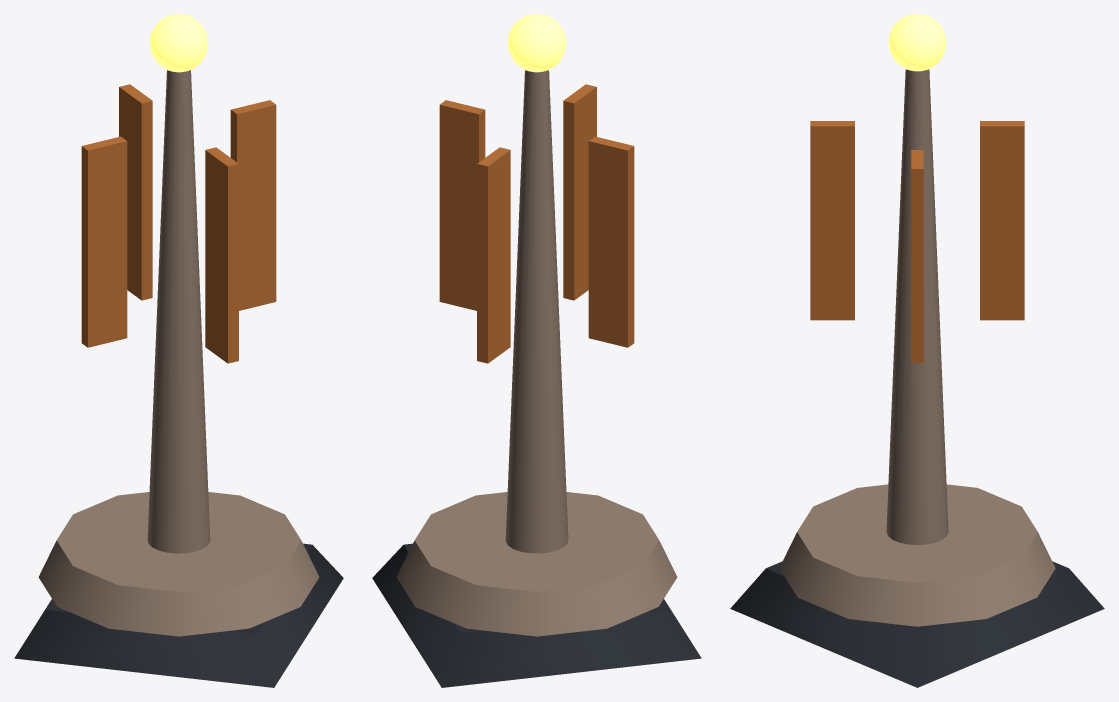
File: compact_high_gravity--command_relay.glb
3 renders of one model, left to right at view 1: azimuth 30°, elevation 25°; view 2: azimuth 150°, elevation 25°; view 3: azimuth 270°, elevation 25°, orthographic.
Visible parts, largest first — view 1: rotation_bearing_2, relay_mast_3, mount_adapter_1, relay_vane_6, relay_vane_4, relay_vane_5, relay_vane_7, signal_tip_8; view 2: rotation_bearing_2, relay_mast_3, mount_adapter_1, relay_vane_6, relay_vane_4, relay_vane_7, relay_vane_5, signal_tip_8; view 3: rotation_bearing_2, relay_mast_3, mount_adapter_1, relay_vane_5, relay_vane_7, relay_vane_4, signal_tip_8.
Boxes of the visible parts, <box> form: rotation_bearing_2: <box>38,492,319,636</box>; relay_mast_3: <box>147,70,210,553</box>; mount_adapter_1: <box>14,543,343,687</box>; relay_vane_6: <box>81,136,127,347</box>; relay_vane_4: <box>230,100,276,310</box>; relay_vane_5: <box>205,147,238,363</box>; relay_vane_7: <box>119,84,152,300</box>; signal_tip_8: <box>149,14,208,72</box>; rotation_bearing_2: <box>396,492,677,636</box>; relay_mast_3: <box>505,70,568,553</box>; mount_adapter_1: <box>372,543,701,687</box>; relay_vane_6: <box>588,136,634,347</box>; relay_vane_4: <box>439,100,485,310</box>; relay_vane_7: <box>477,147,510,363</box>; relay_vane_5: <box>563,84,596,300</box>; signal_tip_8: <box>507,14,566,72</box>; rotation_bearing_2: <box>779,484,1055,626</box>; relay_mast_3: <box>886,69,948,544</box>; mount_adapter_1: <box>730,561,1104,687</box>; relay_vane_5: <box>810,121,854,320</box>; relay_vane_7: <box>980,121,1024,320</box>; relay_vane_4: <box>911,150,923,362</box>; signal_tip_8: <box>888,14,946,71</box>.
Bounding box in the file's own units: 5.04 × 8.79 × 5.04.
